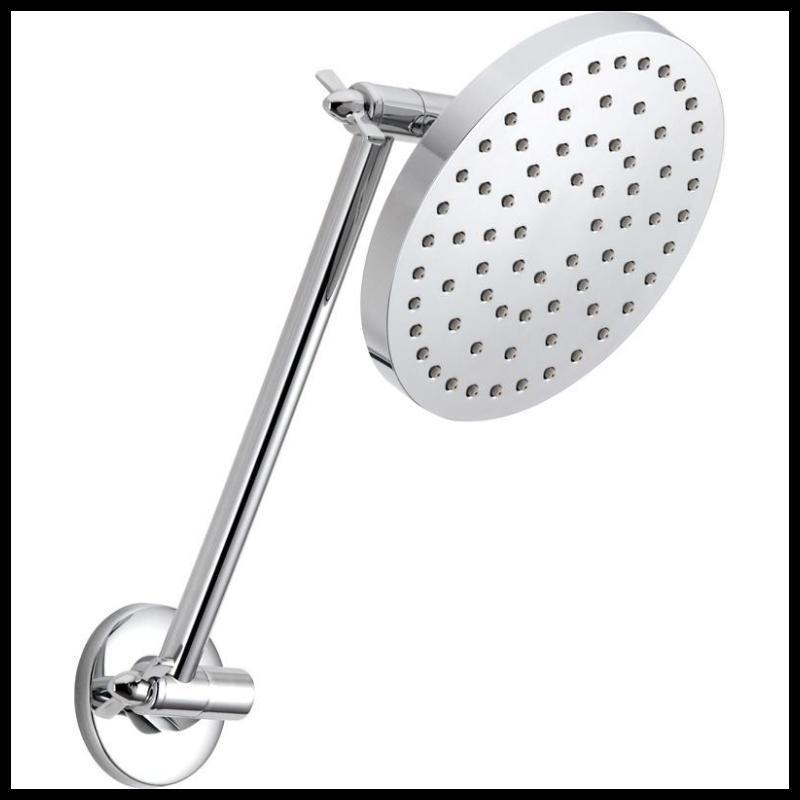Ducha: (61, 11, 735, 788)
